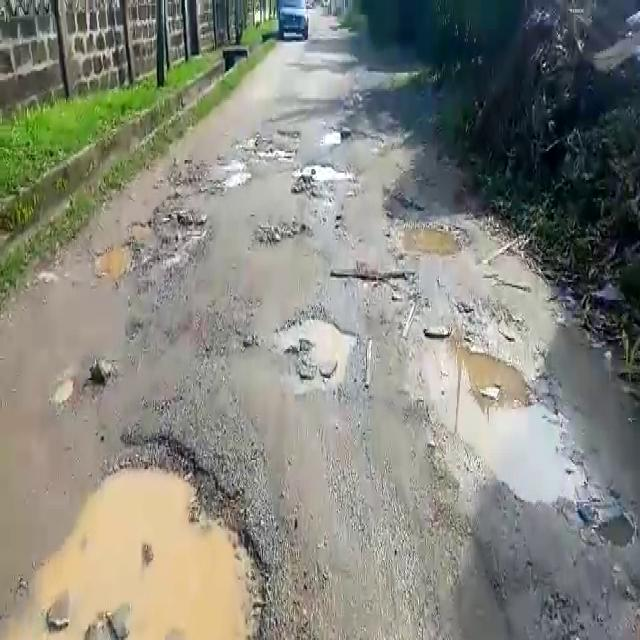Pothole: (51, 430, 282, 640), (417, 323, 594, 508), (93, 209, 208, 284), (277, 312, 352, 385), (393, 215, 472, 257), (327, 265, 419, 288), (290, 161, 358, 184), (254, 220, 312, 245), (213, 163, 253, 190)
